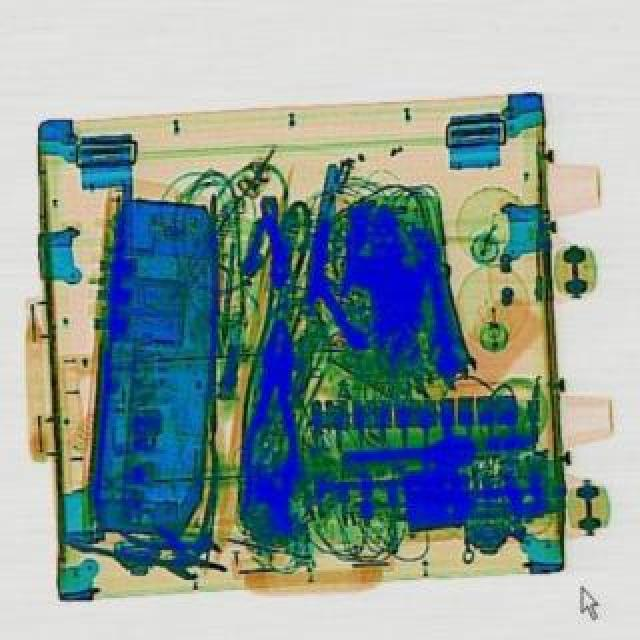scissors: (418, 264, 470, 390)
wrench: (98, 438, 270, 588), (234, 318, 308, 516)
